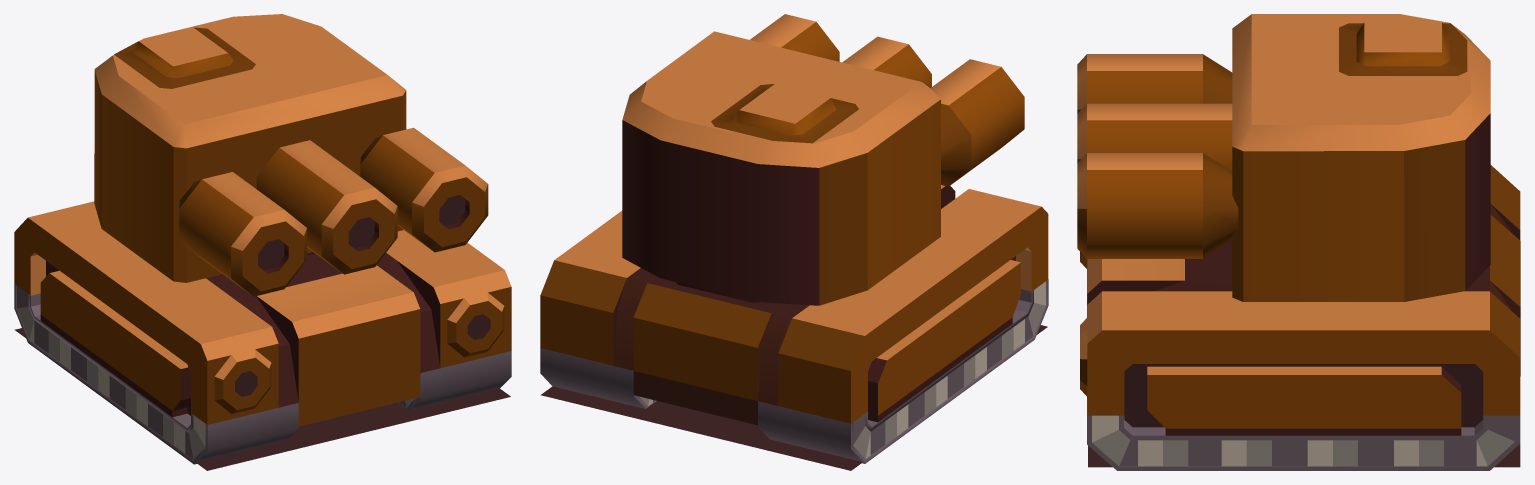
The model's file is MegaTankMesh.UmberWilds.glb.
3 renders of one model, left to right at view 1: azimuth 30°, elevation 25°; view 2: azimuth 150°, elevation 25°; view 3: azimuth 270°, elevation 25°, orthographic. The views are drawn at different scales.
Parts seen in each view (by area): view 1: MegaTankMesh.UmberWilds; view 2: MegaTankMesh.UmberWilds; view 3: MegaTankMesh.UmberWilds.
Boxes of the visible parts, x1=… form: MegaTankMesh.UmberWilds: x1=14, y1=14, x2=511, y2=470; MegaTankMesh.UmberWilds: x1=540, y1=14, x2=1048, y2=470; MegaTankMesh.UmberWilds: x1=1077, y1=14, x2=1520, y2=470.
Size of the model in its own units: 2 by 1.86 by 2.25.
Materials: 1 (1 with a texture image).
